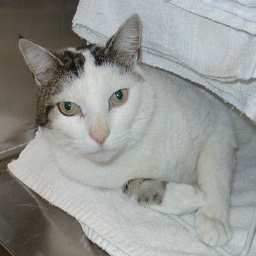cat: (16, 13, 256, 240)
